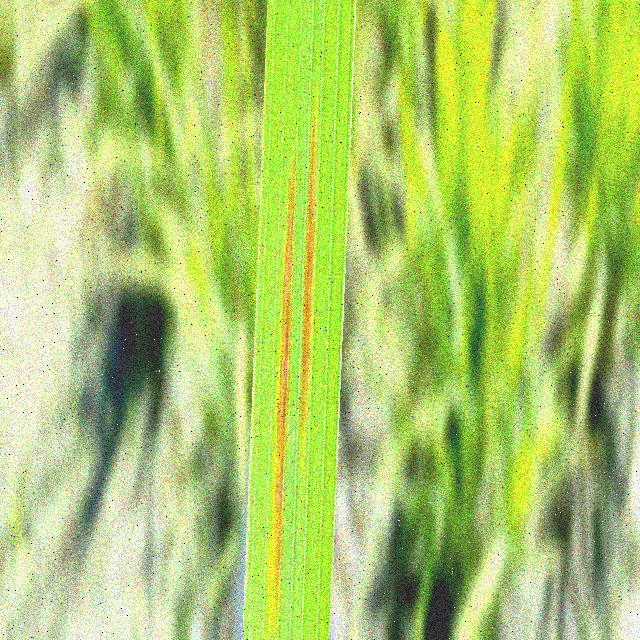NBS: (273, 160, 295, 616), (301, 118, 316, 437)
